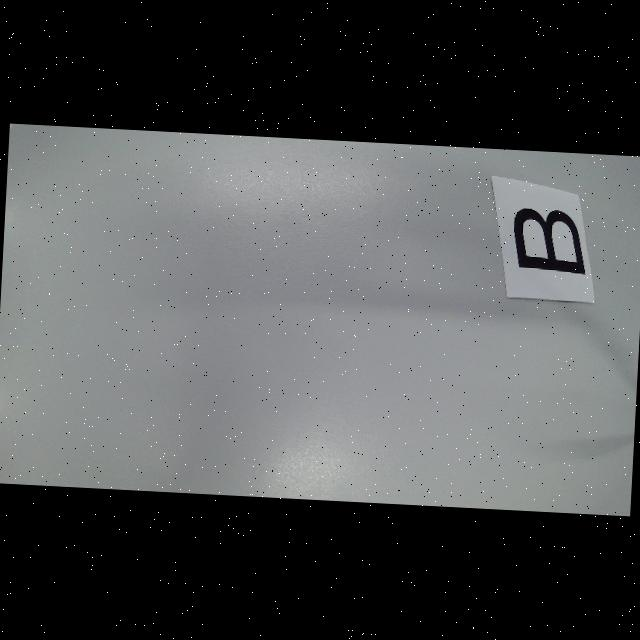FAKE: (512, 208, 590, 274)
